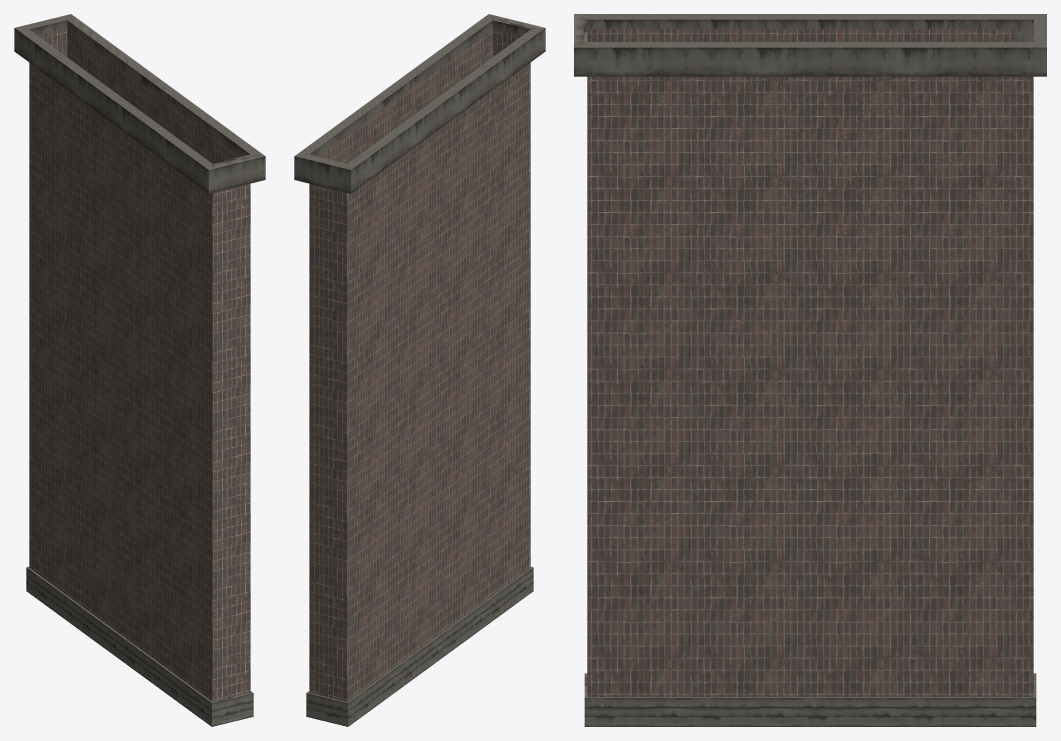
Rendered from W_PilarWall_4x.FBX.
The picture shows the model from 3 angles, left to right: view 1: azimuth 30°, elevation 25°; view 2: azimuth 150°, elevation 25°; view 3: azimuth 270°, elevation 25°; orthographic projection. The views are drawn at different scales.
Parts seen in each view (by area): view 1: W_PilarWall_4x; view 2: W_PilarWall_4x; view 3: W_PilarWall_4x.
Part boxes in pixels (box(x1,y1,x2,y2)): W_PilarWall_4x: box(14, 14, 265, 726); W_PilarWall_4x: box(294, 14, 545, 726); W_PilarWall_4x: box(574, 14, 1046, 726).
Size of the model in its own units: 75.07 by 710 by 445.
